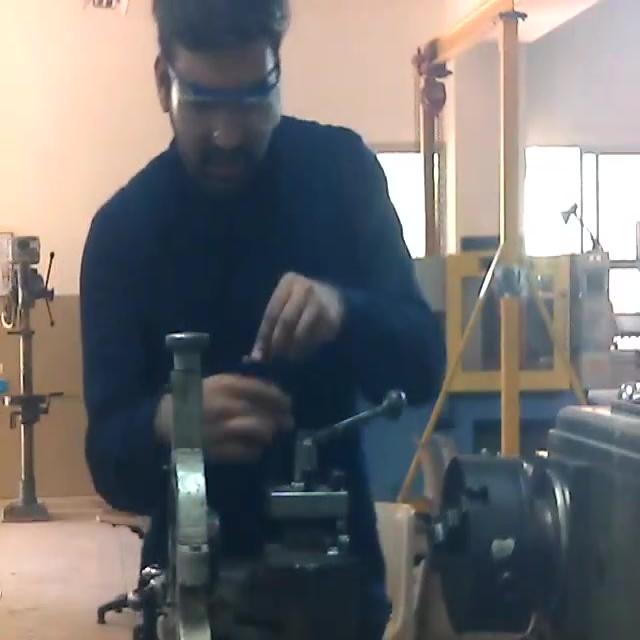googles: (170, 72, 282, 138)
